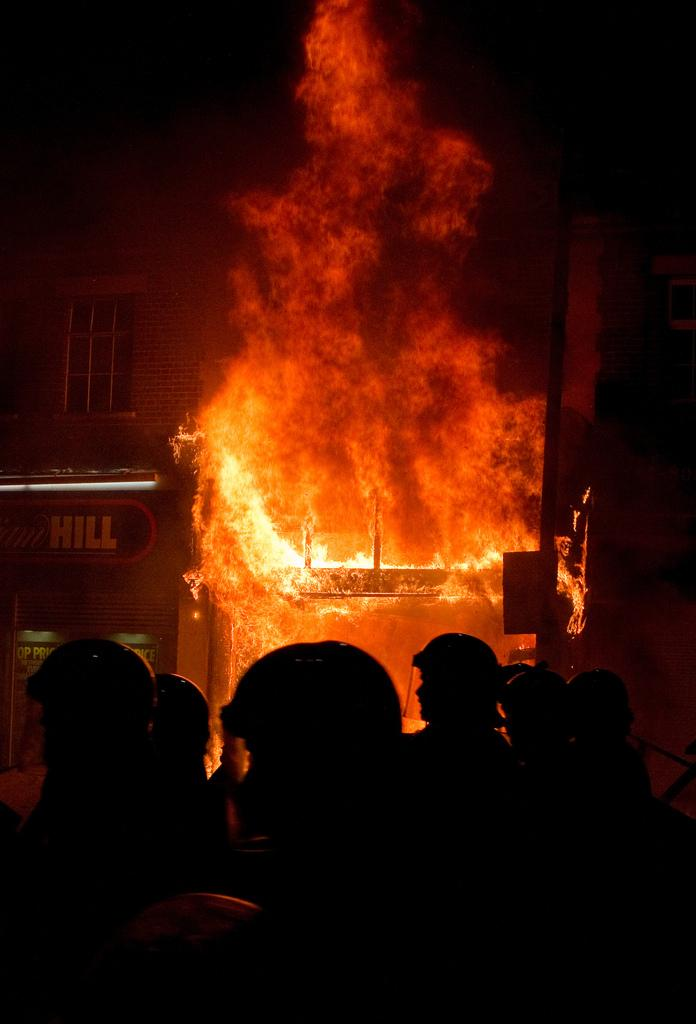fire: (205, 415, 508, 605)
